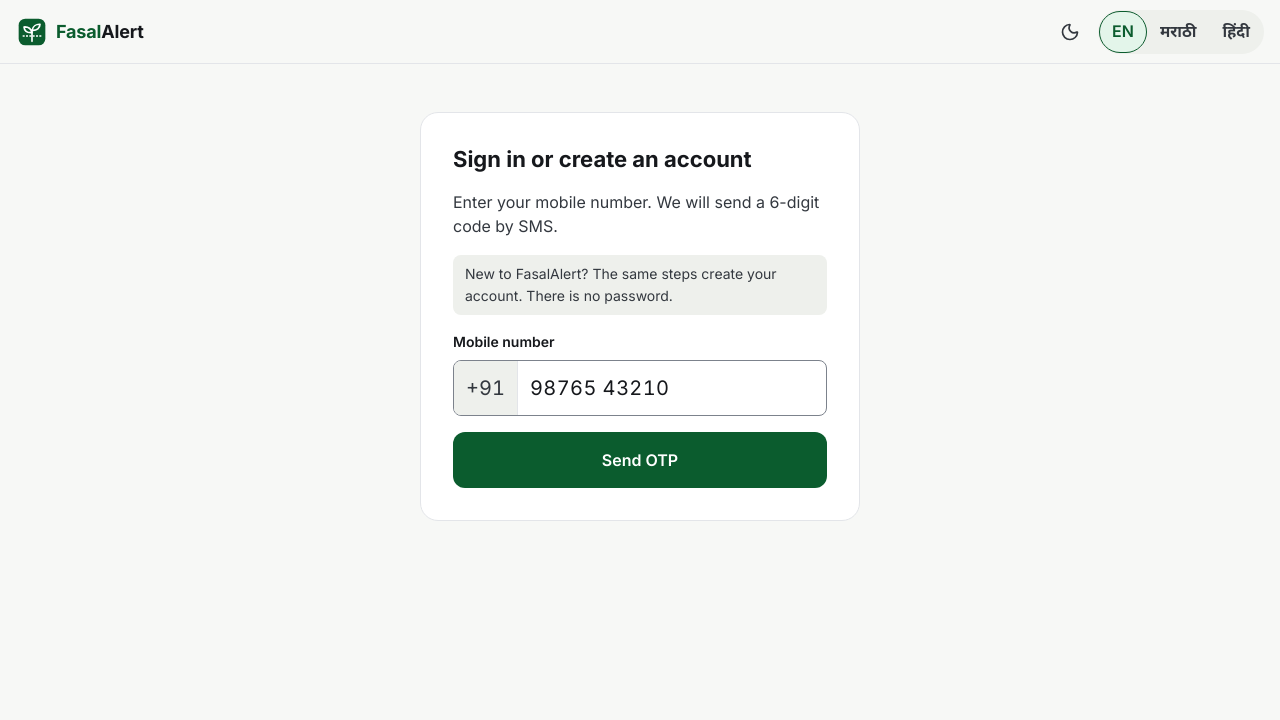
Test case: locks after 5 failures with the helpline
The width and height of the screenshot is (1280, 720).
Expected: the field labelled "Mobile number" holds "98765 43210", [518,361,826,415]
Step 1. Click the button "Send OTP" → coordinates (640, 460), box [453,432,827,488]
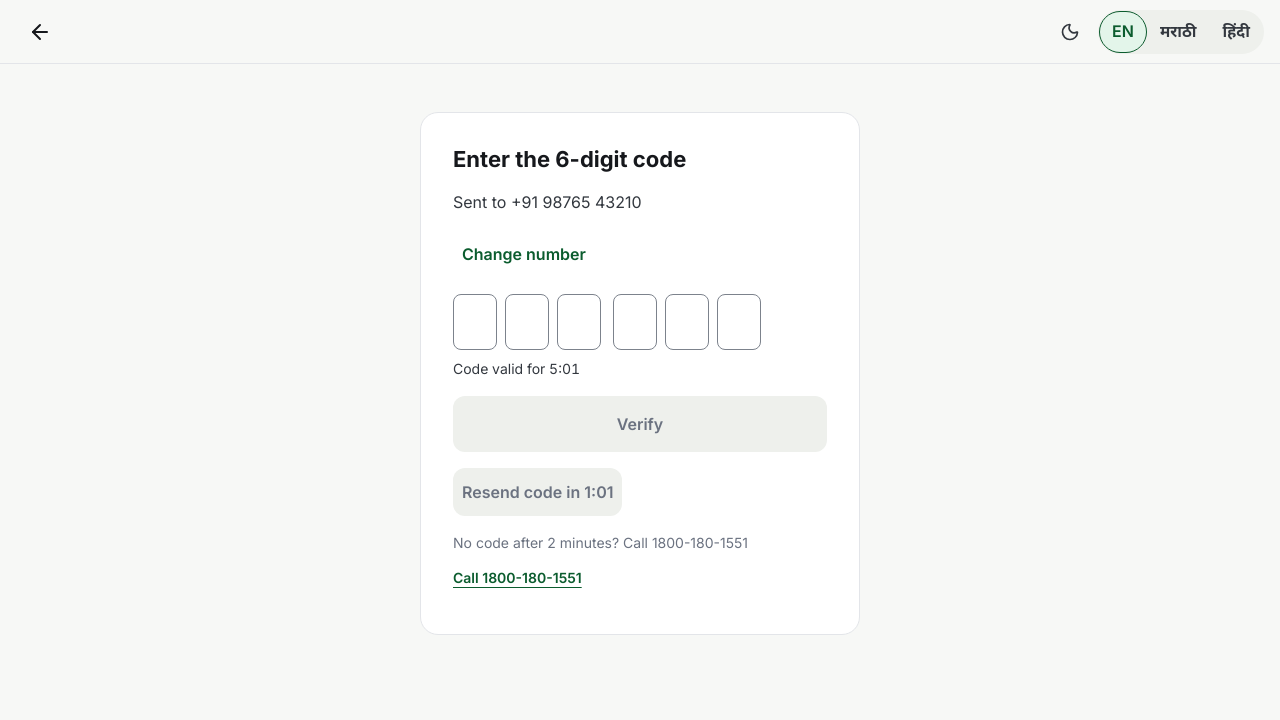
Expected: the heading "Enter the 6-digit code" is shown, [453,146,686,172]
Step 2. Replace the text in the field named "6-digit code" with "000000" → coordinates (517, 369), box [452,294,761,377]
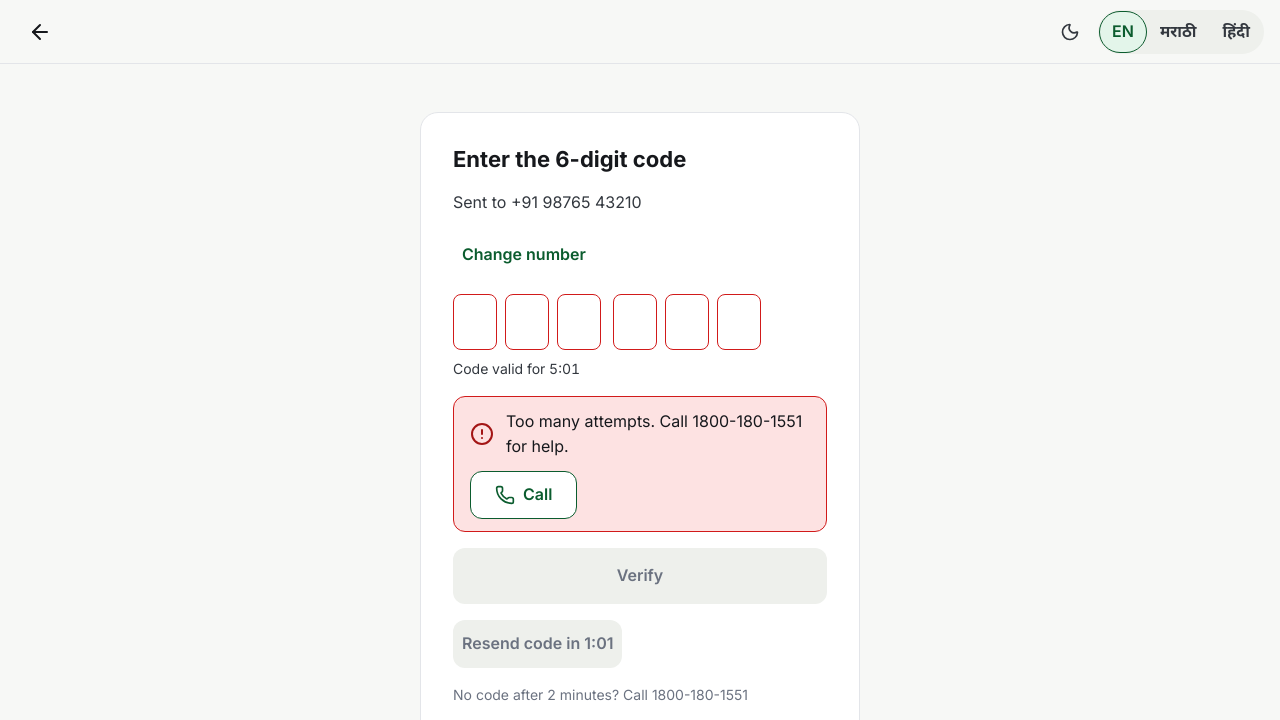
Expected: the button "Verify" is disabled, [453,548,827,604]
Expected: the text "Too many attempts. Call 1800-180-1551 for help." is shown, [506,409,810,459]
